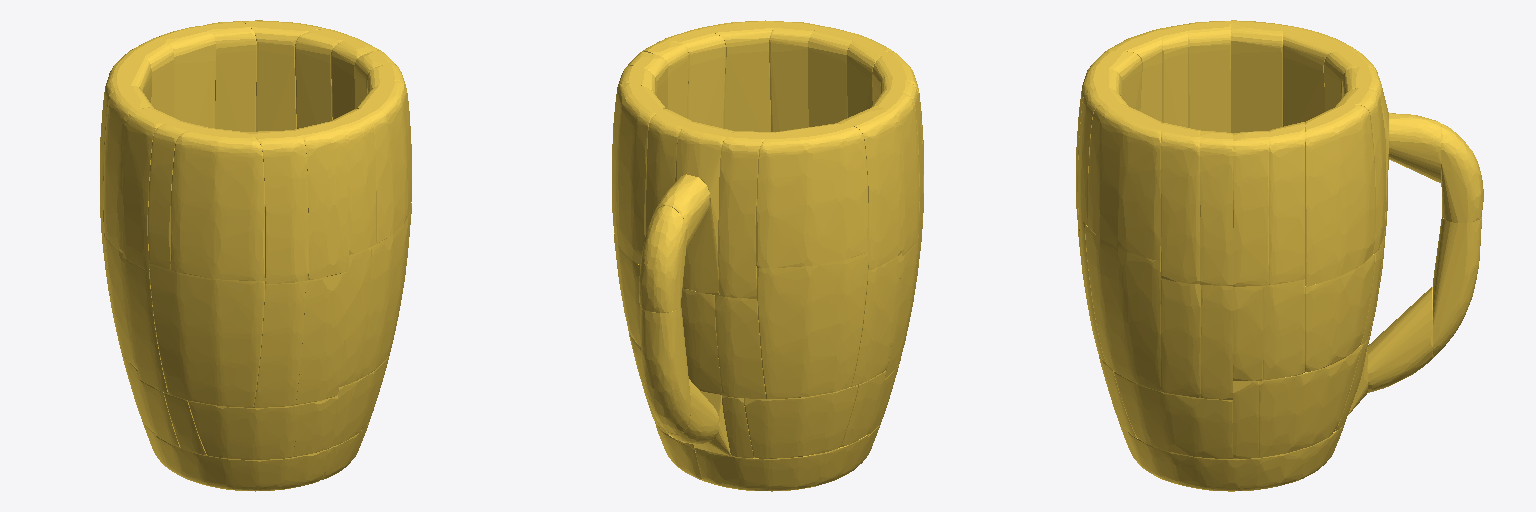
URDF robot description (255.urdf):
<?xml version="1.0" ?>
<robot name="255.urdf">
	<link name="baseLink">
		<inertial>
			<origin rpy="0 0 0" xyz="0 0 0"/>
				<mass value="0.1"/>
				<inertia ixx="6e-5" ixy="0" ixz="0" iyy="6e-5" iyz="0" izz="6e-5"/>
		</inertial>
		<visual>
			<origin rpy="0 0 0" xyz="0 0 0"/>
			<geometry>
				<mesh filename="10_decom_wt.obj" scale="0.80 0.80 0.88"/>
			</geometry>
			<material name="yellow">
				<color rgba="0.98 0.84 0.35 1"/>
			</material>
		</visual>
		<collision>
			<origin rpy="0 0 0" xyz="0 0 0"/>
			<geometry>
				<mesh filename="10_decom_wt.obj" scale="0.80 0.80 0.88"/>
			</geometry>
		</collision>
	</link>
</robot>

--- What the picture shows (computed from the rendered views, not written in the file) ---
The picture shows the robot from 3 angles, left to right: view 1: azimuth 30°, elevation 25°; view 2: azimuth 150°, elevation 25°; view 3: azimuth 270°, elevation 25°; orthographic projection.
Robot: 255.urdf — 1 links, 0 joints (none); root link baseLink; default pose: all joints at 0.
Links seen in each view (by area): view 1: baseLink; view 2: baseLink; view 3: baseLink.
Link boxes in pixels (x1,y1,x2,y2): baseLink: (100,20,411,491); baseLink: (612,20,923,491); baseLink: (1076,20,1483,491).
Size in the robot's own frame: 0.0782 by 0.1023 by 0.1031 metres.
Meshes: 1 distinct files referenced, 1 mesh visuals loaded (1 OBJ).